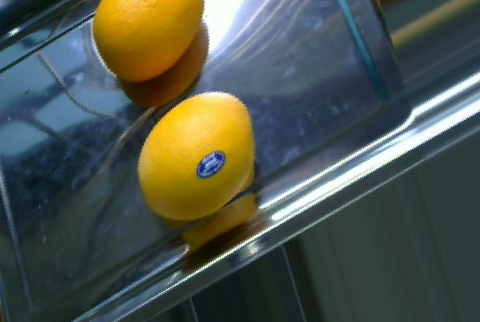Orange: (136, 90, 253, 219), (91, 0, 205, 82)
